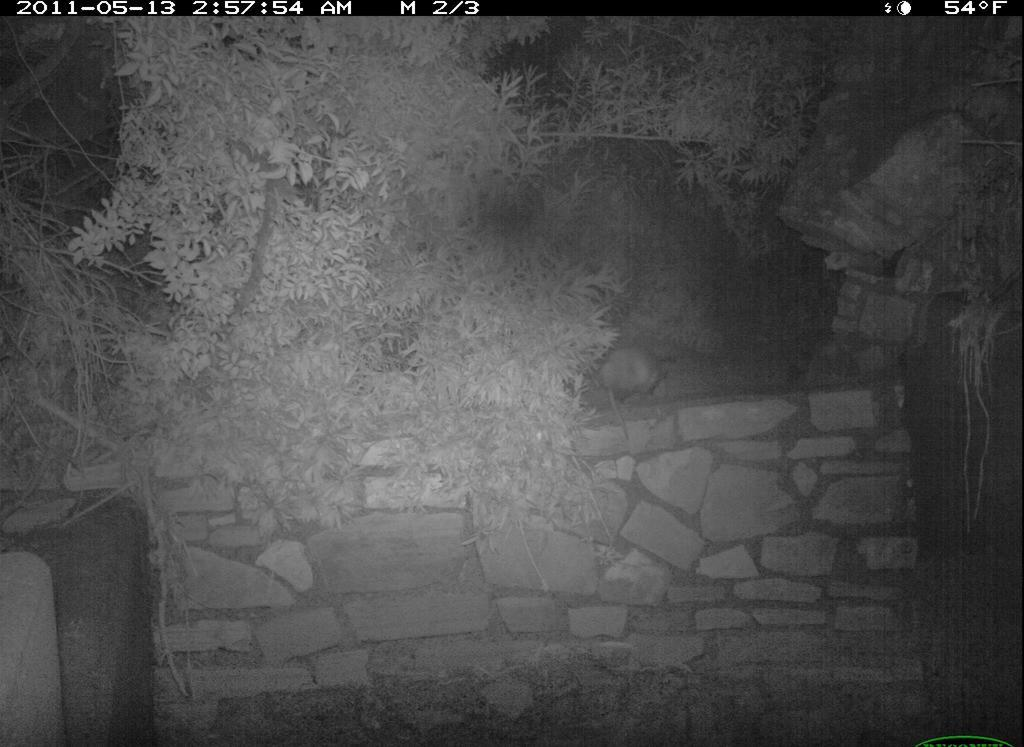opossum: (577, 309, 684, 441)
